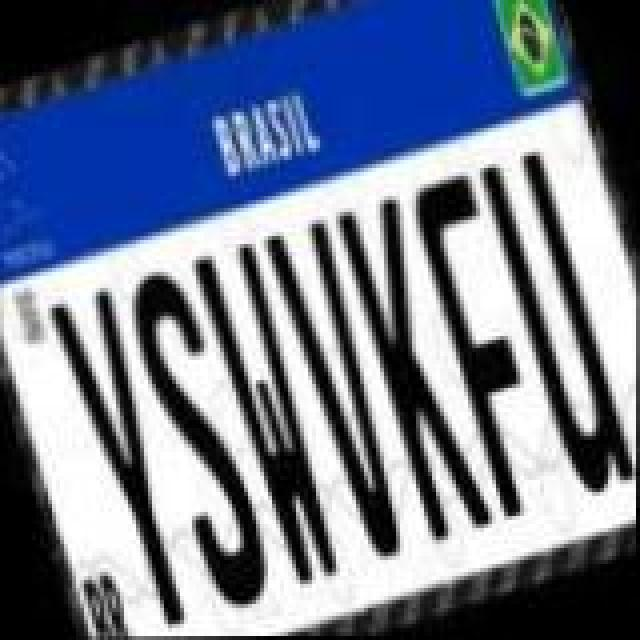F: (402, 162, 574, 526)
K: (332, 188, 500, 548)
S: (112, 252, 284, 616)
U: (472, 142, 640, 502)
V: (260, 210, 428, 566)
W: (188, 234, 360, 594)
Y: (42, 282, 210, 638)
